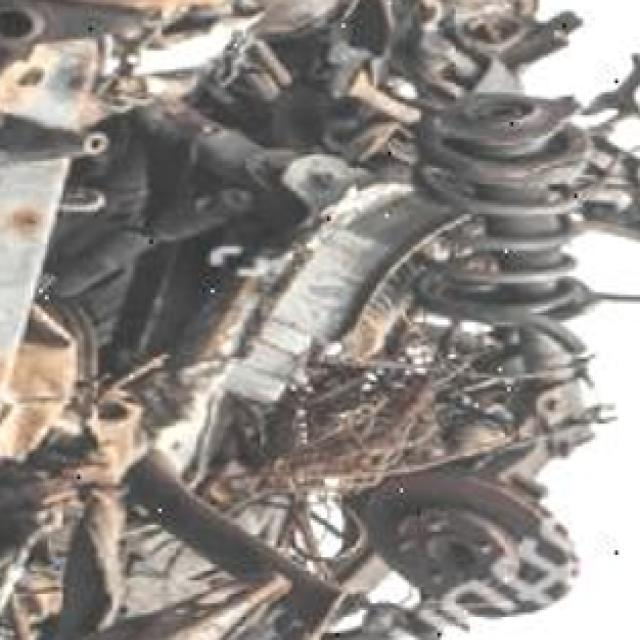shock absorber: (411, 94, 599, 454)
